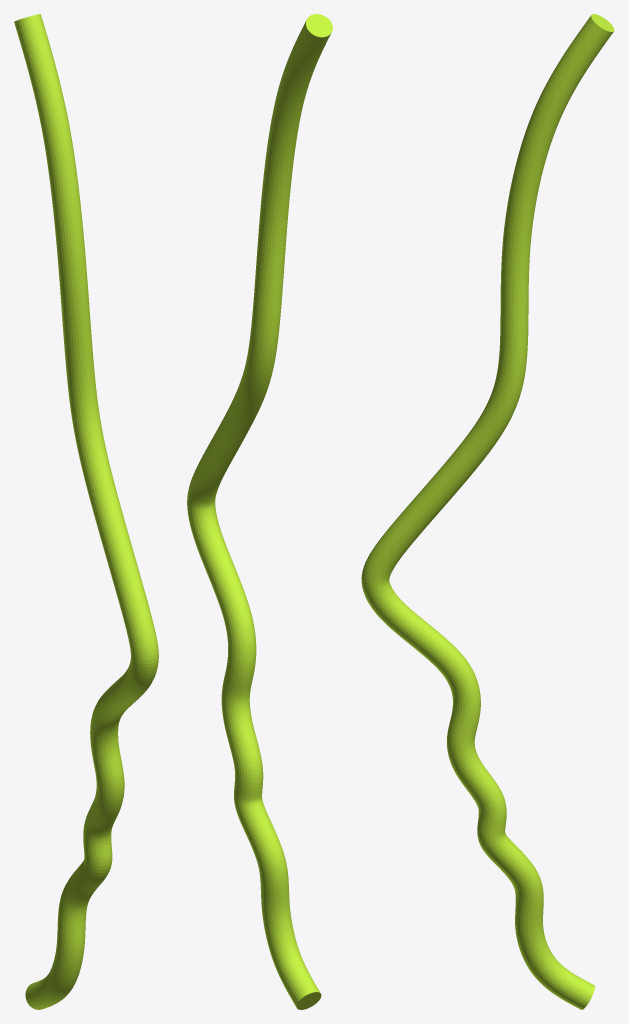
Rendered from faces32 - lineprofile.glb.
3 renders of one model, left to right at view 1: azimuth 30°, elevation 25°; view 2: azimuth 210°, elevation 25°; view 3: azimuth 270°, elevation 25°, orthographic.
Visible parts, largest first — view 1: Tube; view 2: Tube; view 3: Tube.
Boxes of the visible parts, x1,y1,x2,y2 form: Tube: [14, 14, 158, 1009]; Tube: [187, 14, 332, 1009]; Tube: [361, 14, 614, 1009].
Bounding box in the file's own units: 0.0693 × 1.67 × 0.3867.
